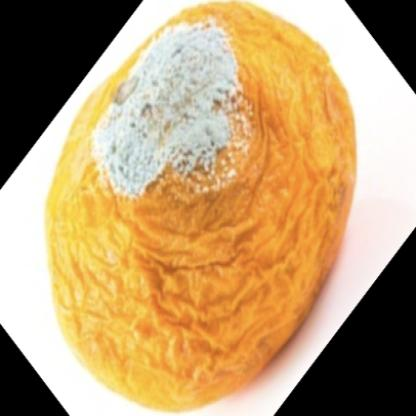rotten: (45, 1, 359, 416)
